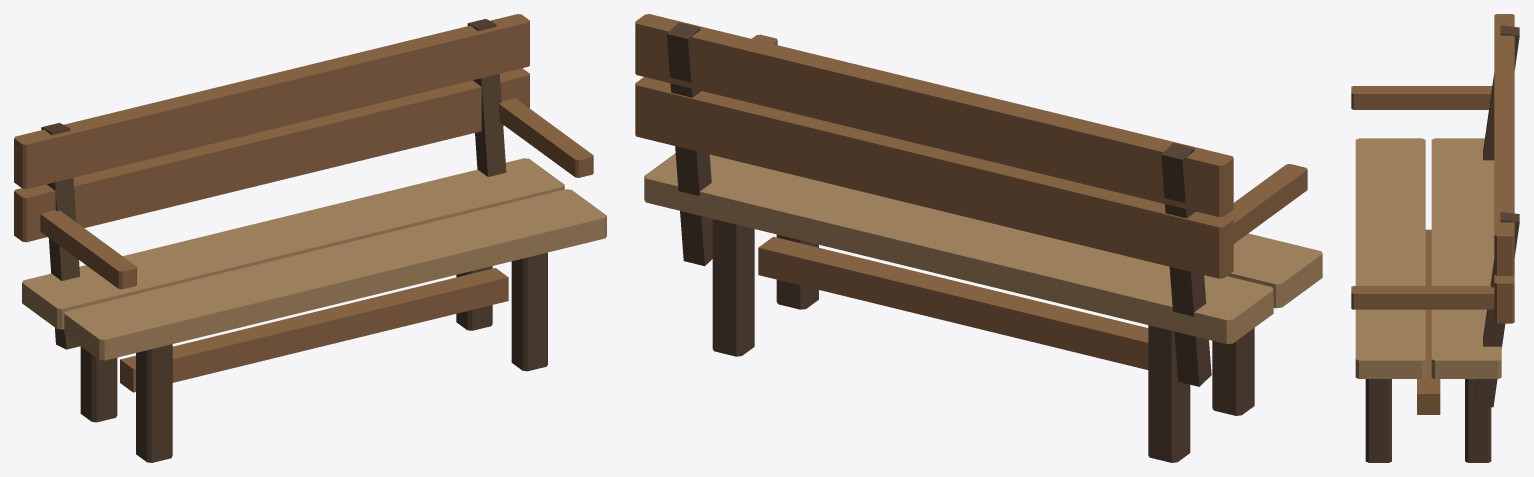
Rendered from bench_waiting.glb.
3 renders of one model, left to right at view 1: azimuth 30°, elevation 25°; view 2: azimuth 150°, elevation 25°; view 3: azimuth 270°, elevation 25°, orthographic. The views are drawn at different scales.
Visible parts, largest first — view 1: geometry; view 2: geometry; view 3: geometry.
Part boxes in pixels (x1=…): geometry: x1=14, y1=14, x2=606, y2=462; geometry: x1=635, y1=14, x2=1322, y2=462; geometry: x1=1351, y1=14, x2=1519, y2=462.
Size of the model in its own units: 1.8 by 0.9541 by 0.5772.
